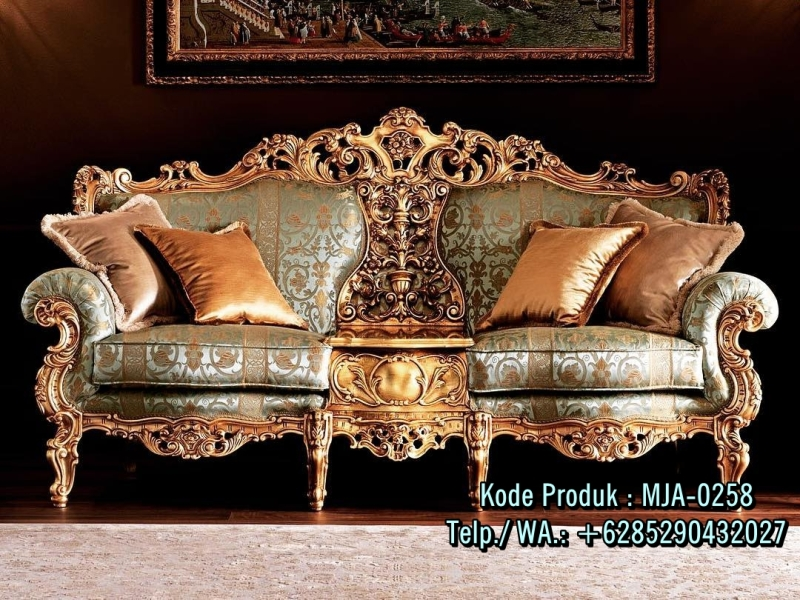Carving Chair: (37, 141, 767, 515)
